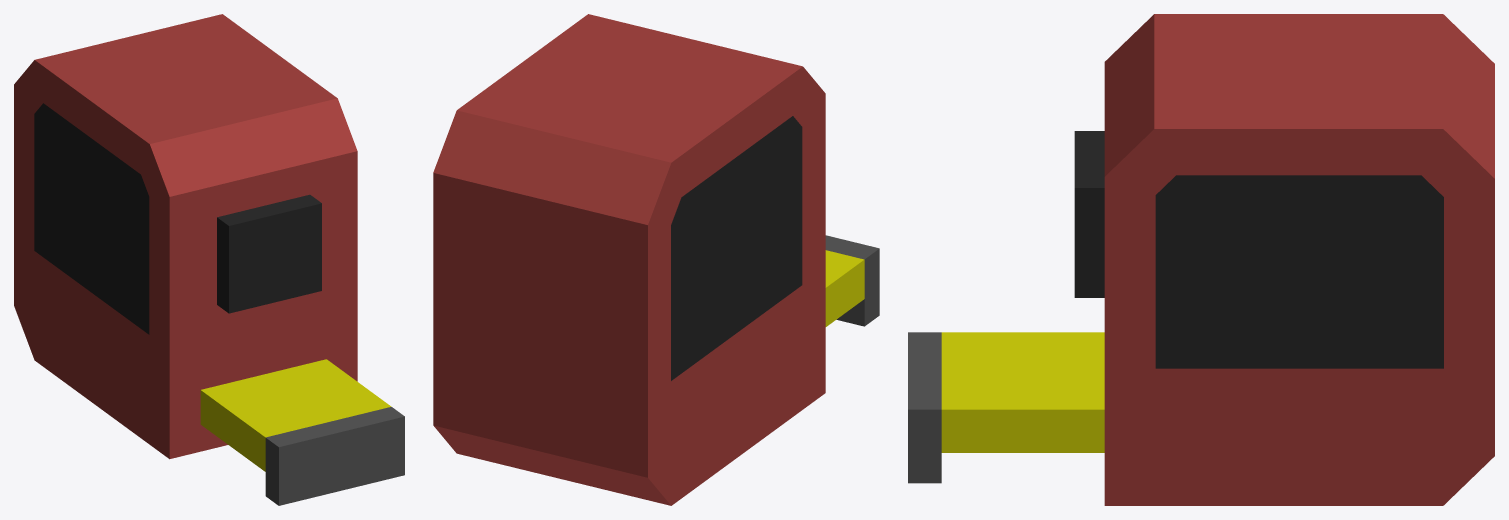
File: TapeMeasurer.fbx
3 renders of one model, left to right at view 1: azimuth 30°, elevation 25°; view 2: azimuth 150°, elevation 25°; view 3: azimuth 270°, elevation 25°, orthographic. The views are drawn at different scales.
Visible parts, largest first — view 1: TapeMeasurer; view 2: TapeMeasurer; view 3: TapeMeasurer.
Boxes of the visible parts, x1,y1,x2,y2 form: TapeMeasurer: (14, 14, 404, 505); TapeMeasurer: (433, 14, 879, 505); TapeMeasurer: (908, 14, 1494, 505).
Size of the model in its own units: 0.0634 by 0.0968 by 0.1366.
